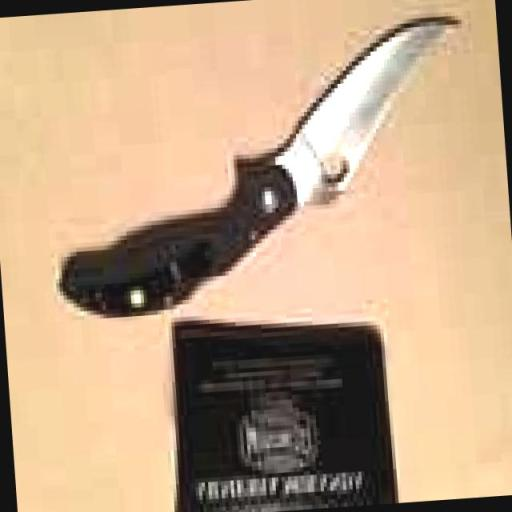knife: (38, 6, 490, 317)
